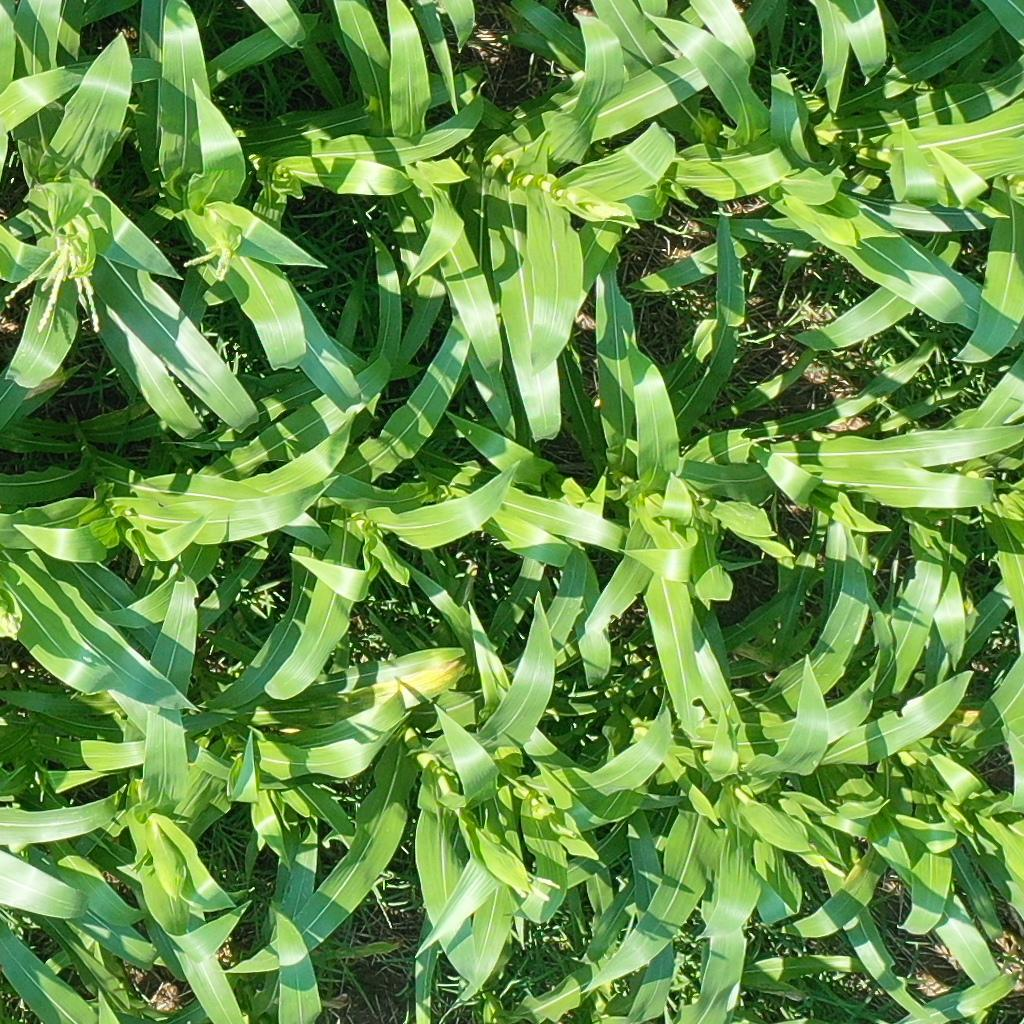Tassel: (1, 202, 103, 333), (177, 234, 244, 283), (509, 860, 560, 912), (584, 197, 630, 224), (1, 598, 25, 647)
